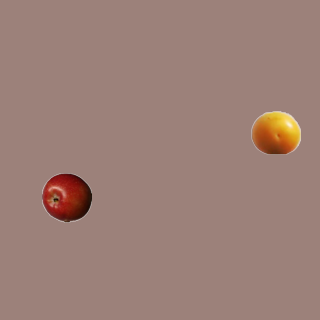Apple Braeburn: (41, 172, 91, 222)
Cherry Wax Yellow: (250, 107, 300, 157)
